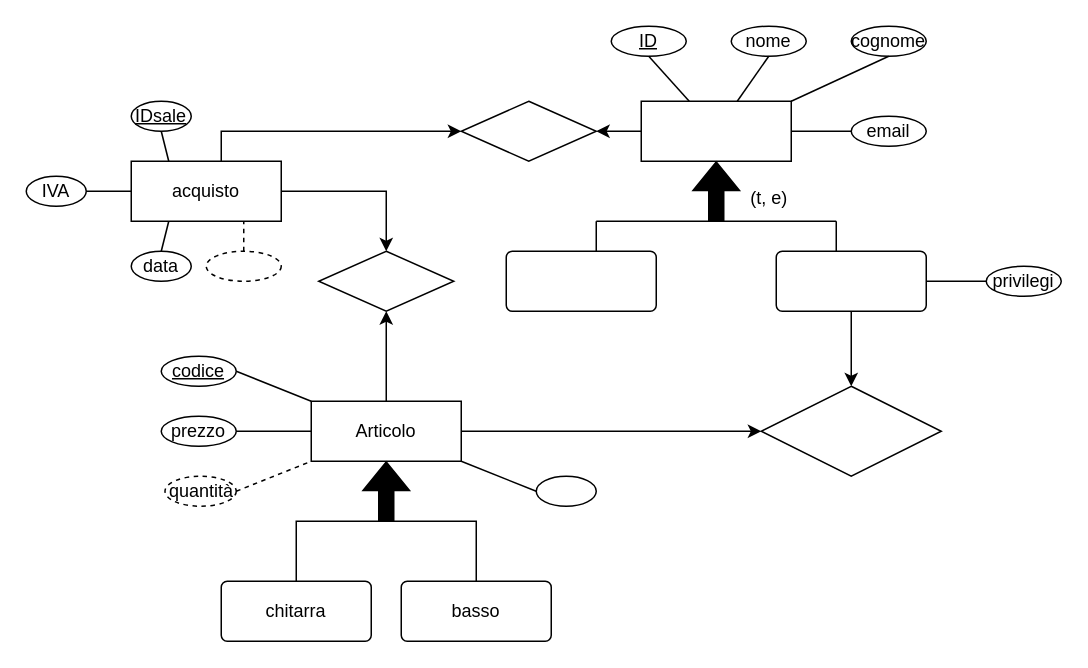
Image size: 1088x668. Some labels were removed from this diagram. Each missing label, with the box of its shape:
Admin: (775, 250, 926, 311)
colore: (535, 475, 596, 506)
compera: (317, 250, 454, 311)
effettua: (460, 100, 596, 161)
importo: (205, 250, 281, 281)
manipola: (760, 385, 941, 476)
Standard: (505, 250, 656, 311)
Utente: (640, 100, 791, 161)
